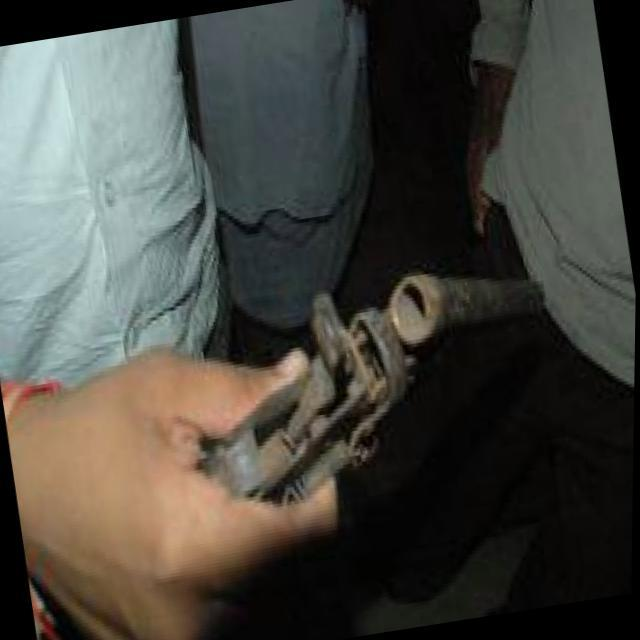weapon: (70, 245, 600, 640)
